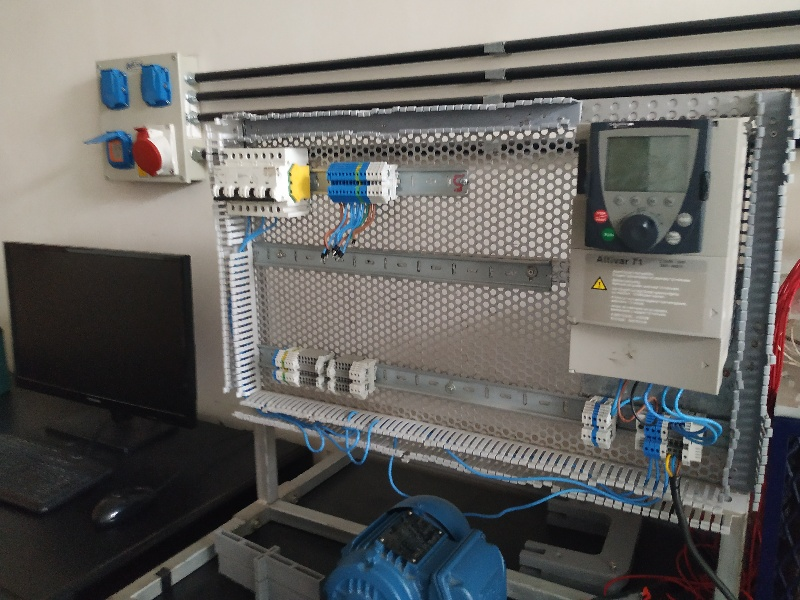Tablero 0: (214, 107, 773, 511)
